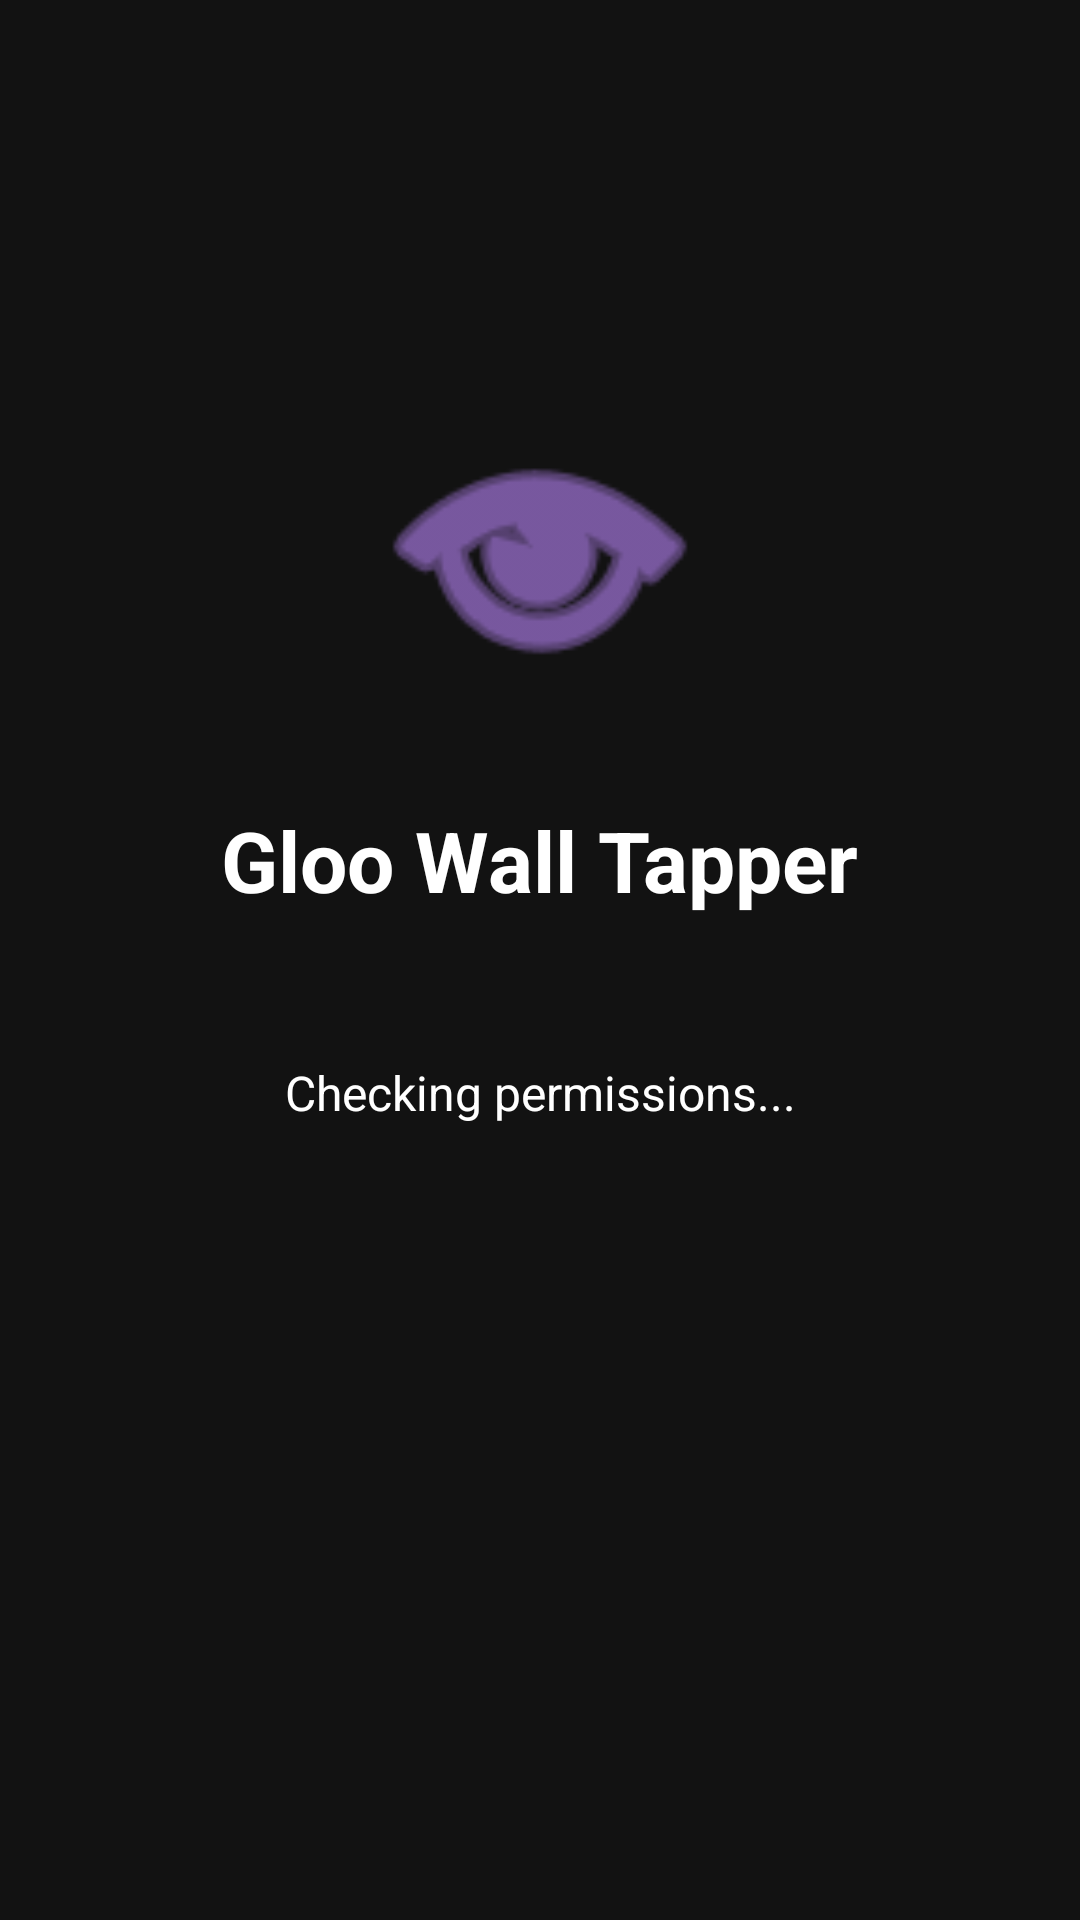

Icons on this 1080×1920 Android screen, each with its box as (left=x1, top=y1, right=x2, bottom=y2):
view: (left=393, top=469, right=687, bottom=654)
